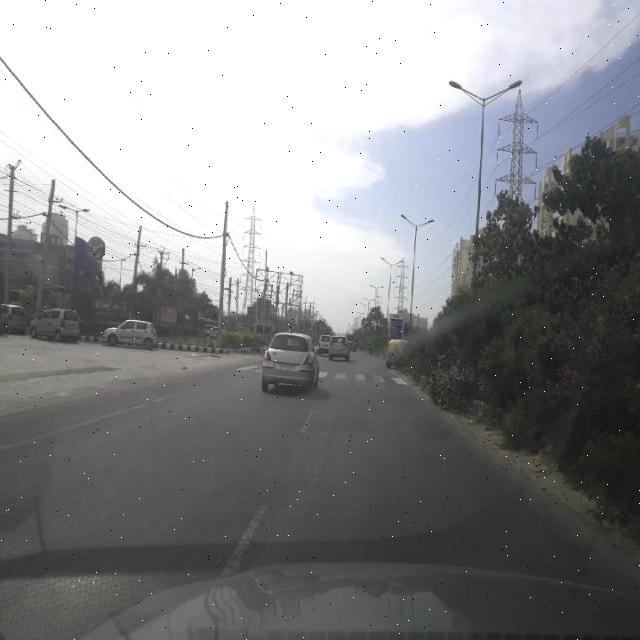D00: (406, 423, 428, 468)
D20: (22, 426, 578, 581)
D44: (52, 379, 218, 430), (222, 495, 267, 568)
